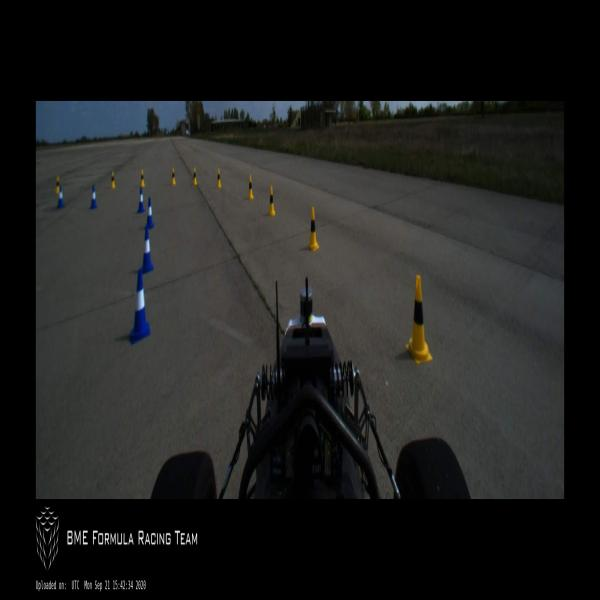blue_cone: (131, 268, 151, 345), (141, 226, 153, 273), (144, 198, 154, 229), (90, 184, 97, 210), (138, 188, 144, 214), (58, 184, 64, 208)
yellow_cone: (406, 275, 433, 364), (307, 208, 319, 251), (268, 185, 275, 216), (248, 174, 254, 200), (216, 168, 222, 188), (110, 172, 116, 189), (55, 176, 60, 195), (171, 167, 176, 186), (192, 167, 197, 186), (140, 170, 145, 188)
